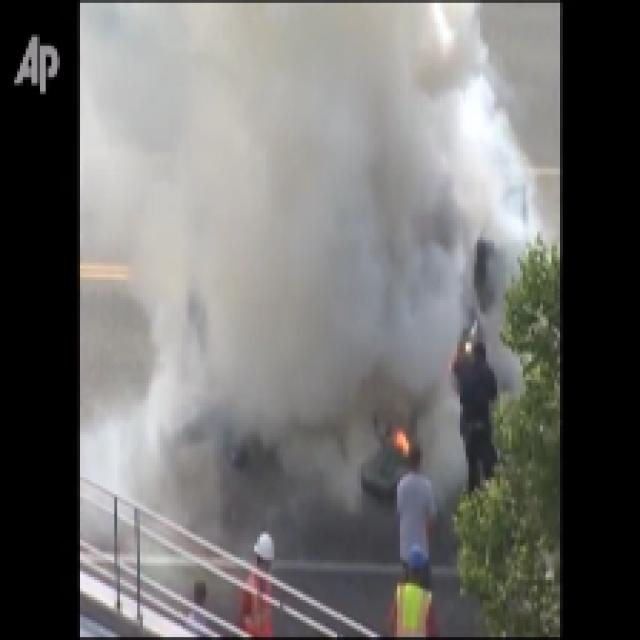smoke: (142, 27, 452, 404)
